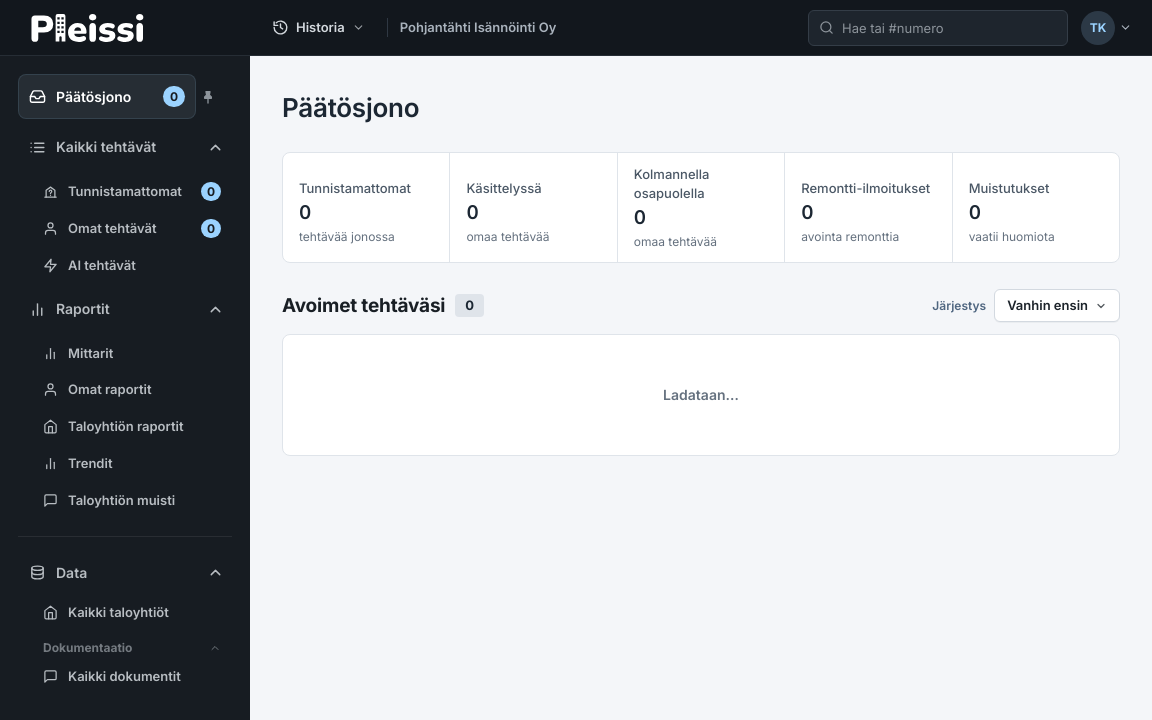
Scenario: sovellus › haku: #numero avaa tehtävän ja muu haku näyttää tulokset otsikoittain
The image size is (1152, 720).
In the search field named "Hae alustalta": (938, 28) [808,10,1068,46], type "#1"
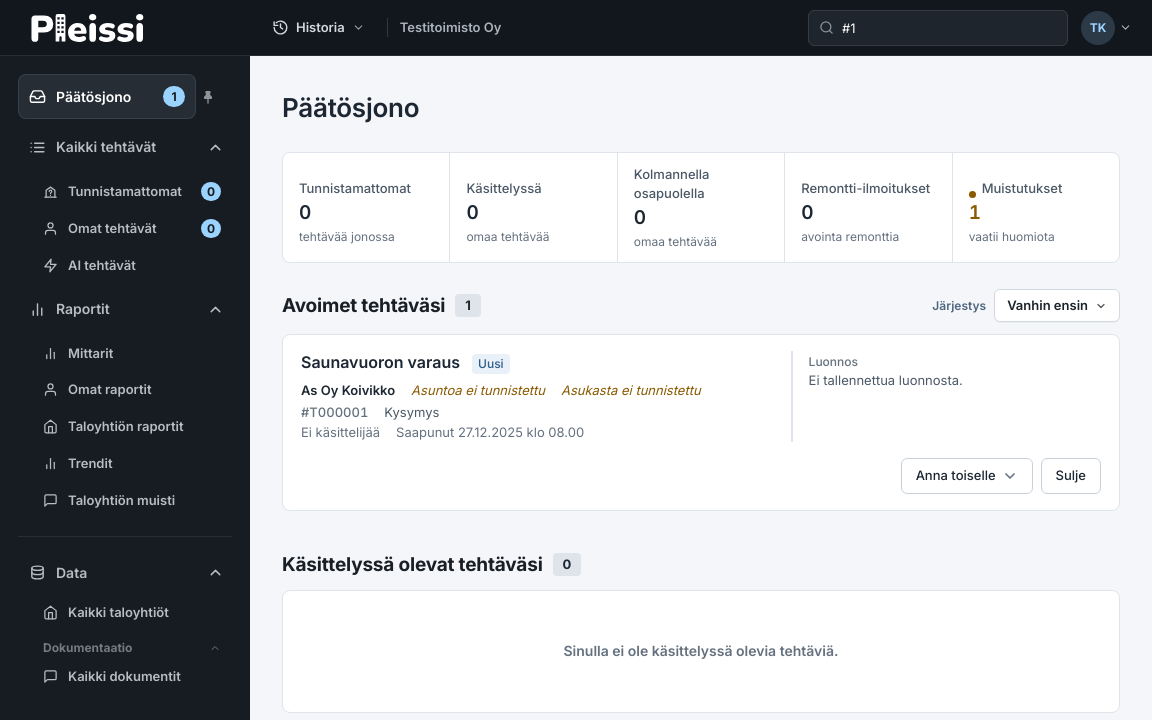
Submit the form named "Hae alustalta", box [808,10,1068,46]
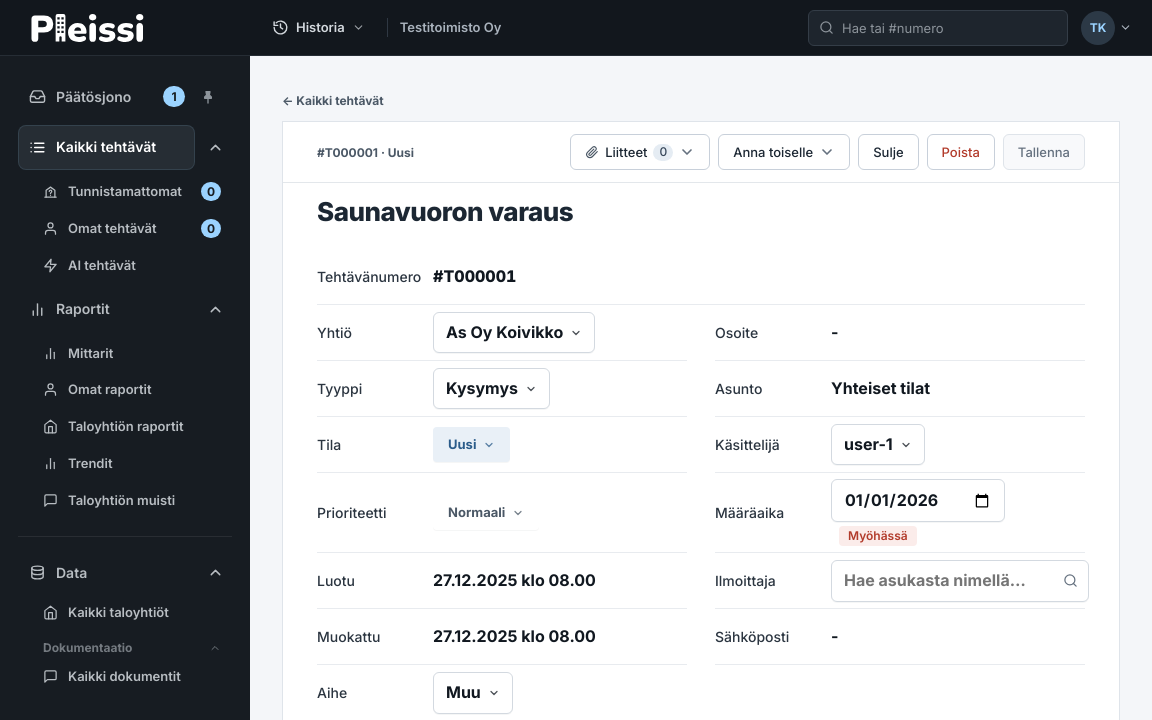
In the search field named "Hae alustalta": (938, 28) [808,10,1068,46], type "sauna"
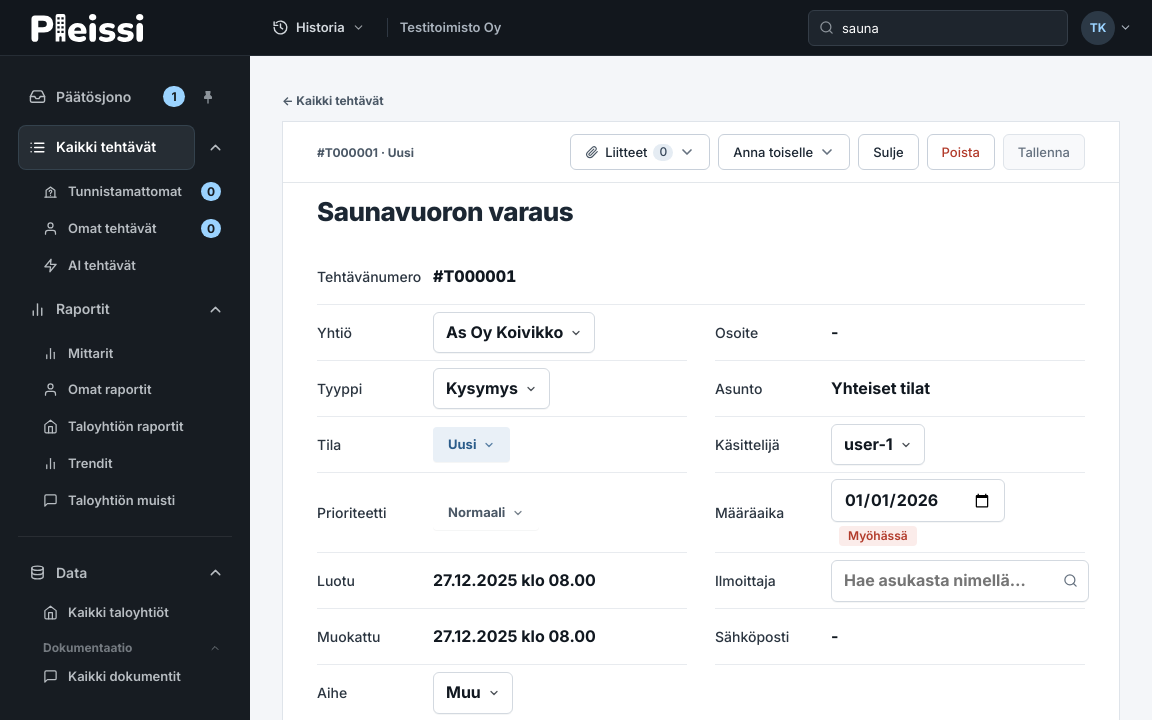
Submit the form named "Hae alustalta", box [808,10,1068,46]
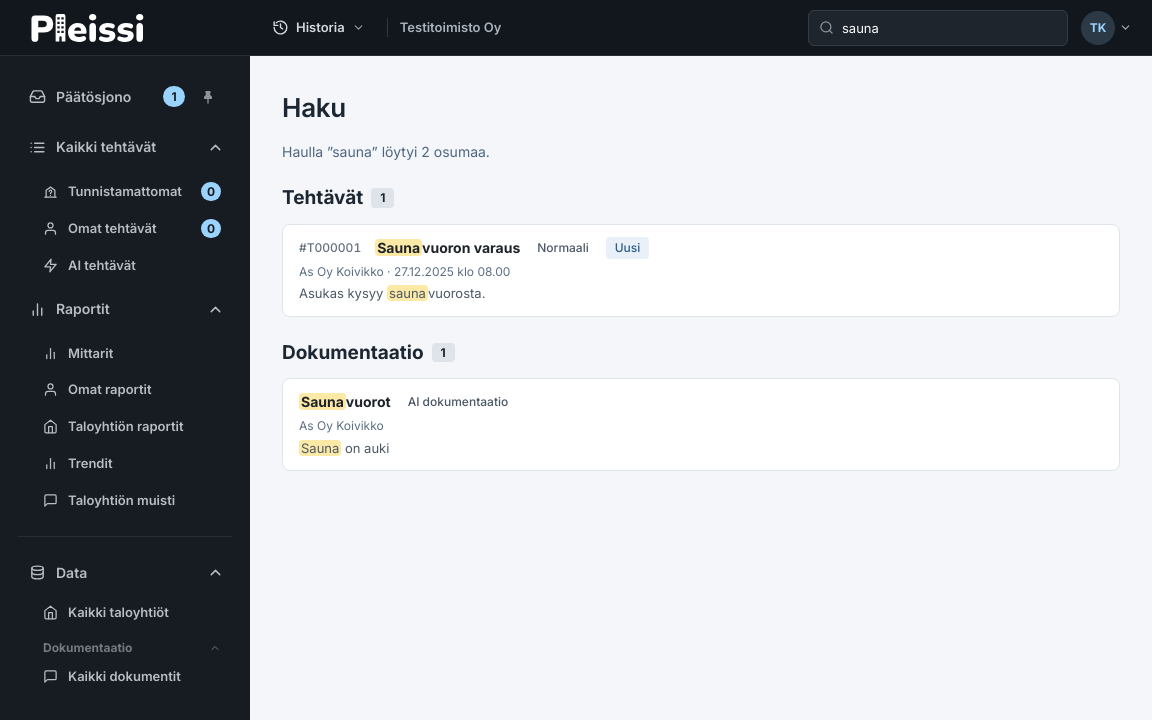
Result: the heading "Tehtävät 1" is shown at [282,186,394,209]
Result: the heading "Dokumentaatio 1" is shown at [282,341,455,364]
Result: the text "Haulla ”sauna” löytyi 2 osumaa." is shown at [282,143,490,160]
